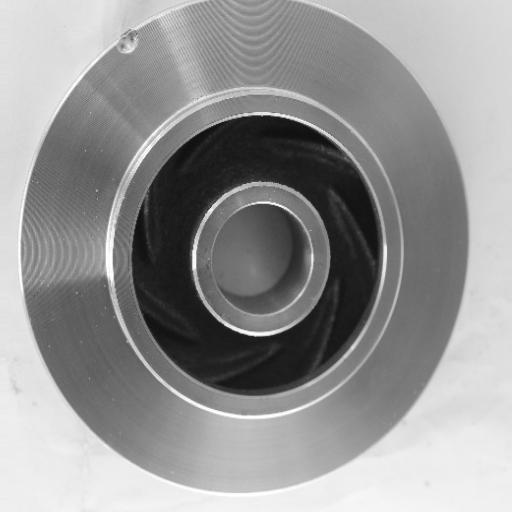crack: (112, 22, 147, 60)
unpolished_casting: (22, 0, 470, 496)
